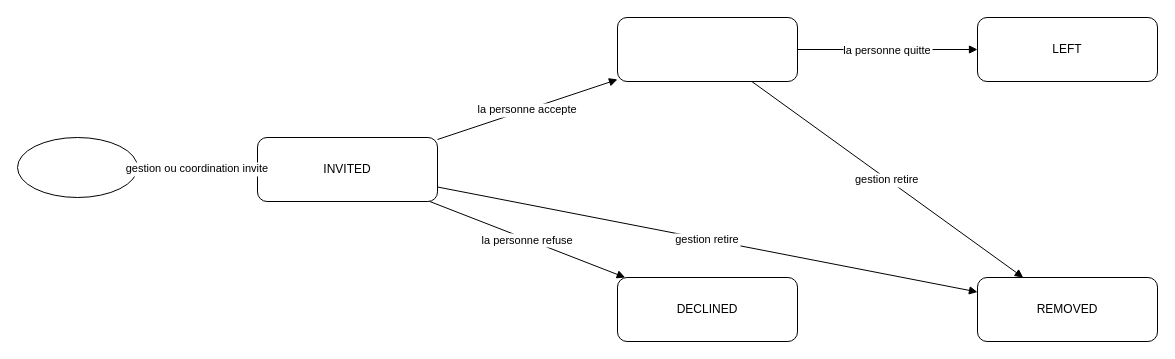
Some shapes in this 1175 by 359 pixel diagram are drawn without their labels. The centre of each missing label's shape, as x and y in pixels:
"ACTIVE" goes at [707,49].
"Invitation" goes at [77,167].
